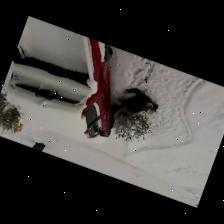person: (118, 88, 157, 112)
